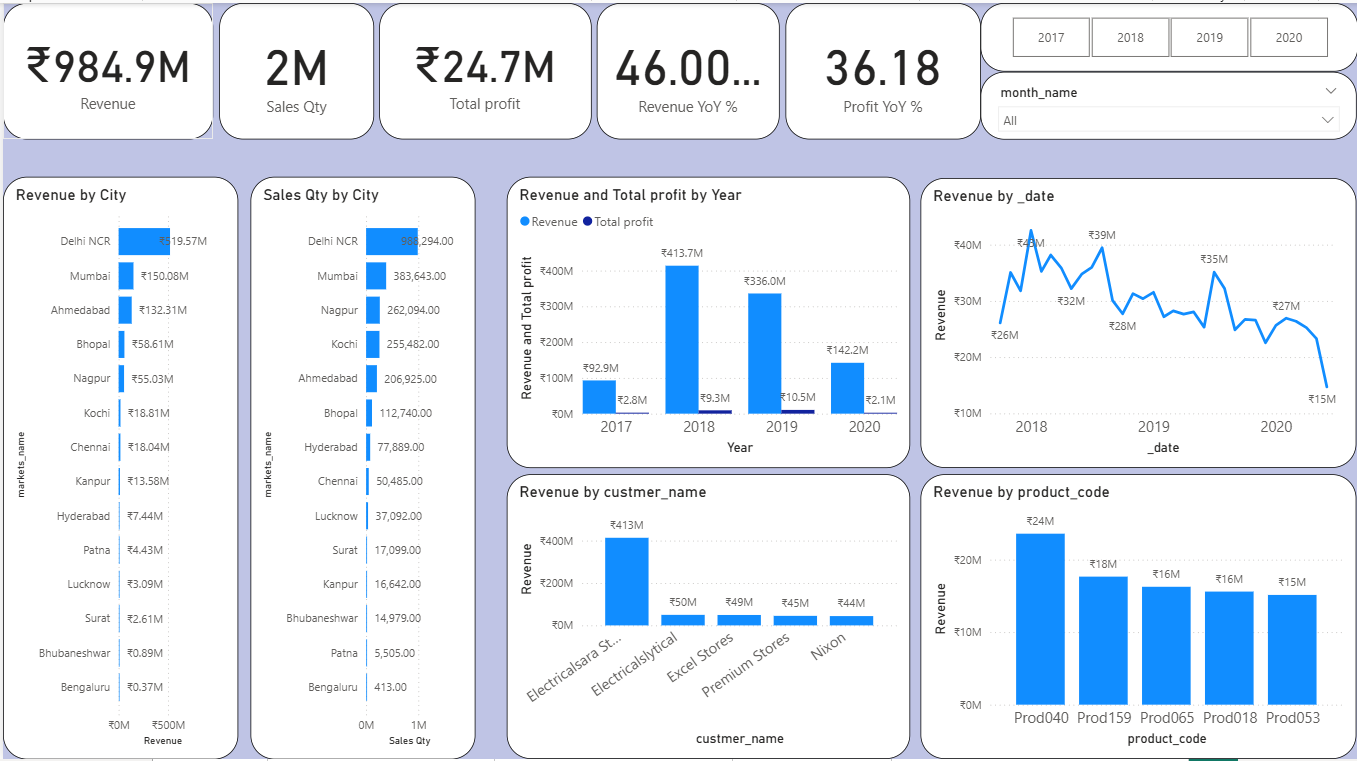

The dashboard page shown, as its layout file describes it:
{"tool":"powerbi","page":{"name":"Overview","canvas":[1470,820],"ordinal":0},"visuals":[{"type":"card","fields":{"Values":["BasicMeasures.Revenue"]},"box":[0,0,228.3,148.3],"z":0},{"type":"barChart","title":"Revenue by City","fields":{"Category":["sales markets.markets_name"],"Y":["BasicMeasures.Revenue"]},"box":[0,188.5,254.9,631.8],"z":1000},{"type":"card","fields":{"Values":["BasicMeasures.Sales Qty"]},"box":[234.2,0,168.3,148.3],"z":2000},{"type":"barChart","title":"Sales Qty by City","fields":{"Y":["BasicMeasures.Sales Qty"],"Category":["sales markets.markets_name"]},"box":[268.4,188.6,243.6,631.8],"z":3000},{"type":"slicer","fields":{"Values":["sales date.year"]},"box":[1060.3,0,409.5,74.6],"z":4000},{"type":"slicer","fields":{"Values":["sales date.month_name"]},"box":[1060.3,74.6,408.1,73.2],"z":5000},{"type":"clusteredColumnChart","fields":{"Y":["BasicMeasures.Revenue"],"Category":["sales customers.custmer_name"]},"box":[546.4,511.1,437.9,309.1],"z":6000},{"type":"clusteredColumnChart","fields":{"Category":["sales products.product_code"],"Y":["BasicMeasures.Revenue"]},"box":[995.2,511.1,473.2,309.1],"z":7000},{"type":"lineChart","fields":{"Y":["BasicMeasures.Revenue"],"Category":["sales date.cy_date"]},"box":[995.2,189.8,473.2,314.6],"z":8000},{"type":"card","fields":{"Values":["BasicMeasures.Total profit margin"]},"box":[408.3,0,230,148.3],"z":9000},{"type":"card","fields":{"Values":["BasicMeasures.Revenue YoY %"]},"box":[644.2,0,198.3,148.3],"z":10000},{"type":"card","fields":{"Values":["BasicMeasures.Profit YoY %"]},"box":[848.3,0,211.7,148.3],"z":11000},{"type":"clusteredColumnChart","fields":{"Category":["sales date._date.Variation.Date Hierarchy.Year","sales date._date.Variation.Date Hierarchy.Quarter","sales date._date.Variation.Date Hierarchy.Month","sales date._date.Variation.Date Hierarchy.Day"],"Y":["BasicMeasures.Revenue","BasicMeasures.Total profit"]},"box":[546.4,188.5,437.9,315.9],"z":12000}]}

Visuals, with their boxes in screenshot pixels (x1, y1, x2, y2), scaled from the page's 1470x820 canvas onto the 1357x761 screenshot:
card - BasicMeasures.Revenue: (left=0, top=0, right=211, bottom=138)
"Revenue by City" barChart: (left=0, top=175, right=235, bottom=760)
card - BasicMeasures.Sales Qty: (left=216, top=0, right=372, bottom=138)
"Sales Qty by City" barChart: (left=248, top=175, right=473, bottom=760)
slicer - sales date.year: (left=979, top=0, right=1356, bottom=69)
slicer - sales date.month_name: (left=979, top=69, right=1356, bottom=137)
clusteredColumnChart - BasicMeasures.Revenue x sales customers.custmer_name: (left=504, top=474, right=909, bottom=760)
clusteredColumnChart - sales products.product_code x BasicMeasures.Revenue: (left=919, top=474, right=1356, bottom=760)
lineChart - BasicMeasures.Revenue x sales date.cy_date: (left=919, top=176, right=1356, bottom=468)
card - BasicMeasures.Total profit margin: (left=377, top=0, right=589, bottom=138)
card - BasicMeasures.Revenue YoY %: (left=595, top=0, right=778, bottom=138)
card - BasicMeasures.Profit YoY %: (left=783, top=0, right=979, bottom=138)
clusteredColumnChart - sales date._date.Variation.Date Hierarchy.Year x sales date._date.Variation.Date Hierarchy.Quarter: (left=504, top=175, right=909, bottom=468)
